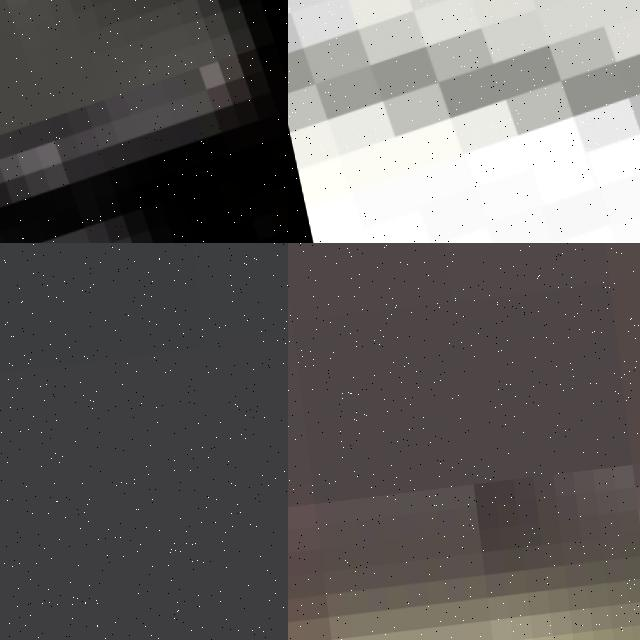drone: (288, 0, 640, 243), (0, 0, 288, 243)
